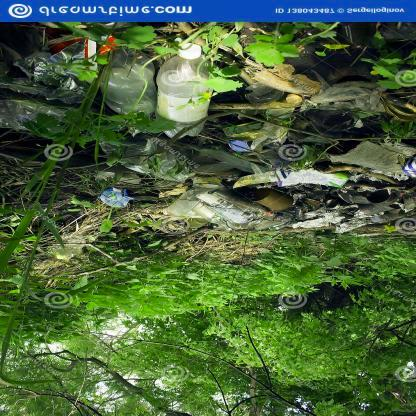Metal: (225, 120, 266, 144), (253, 190, 301, 209), (223, 141, 260, 155)
Plastic: (156, 44, 219, 135), (98, 43, 157, 118), (198, 190, 258, 224), (165, 194, 200, 217), (184, 218, 208, 229)
Trash: (17, 39, 99, 85), (101, 142, 184, 182), (1, 108, 66, 129), (97, 187, 137, 210), (338, 24, 365, 50), (189, 174, 224, 190)
